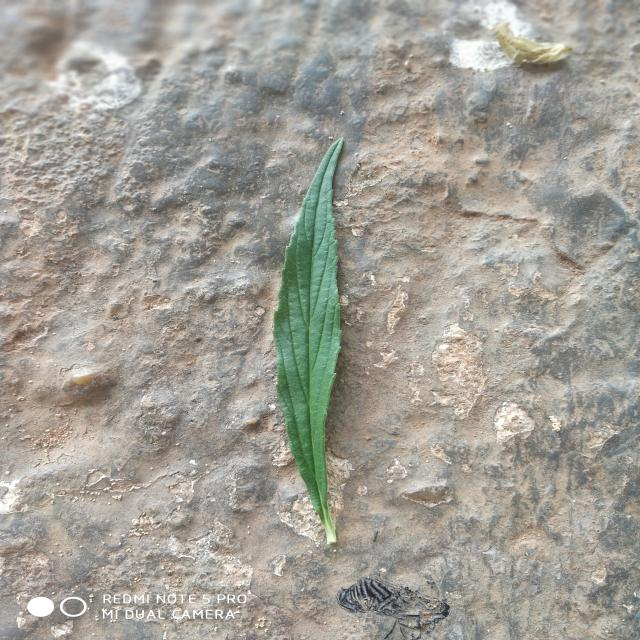thambe: (273, 139, 343, 544)
